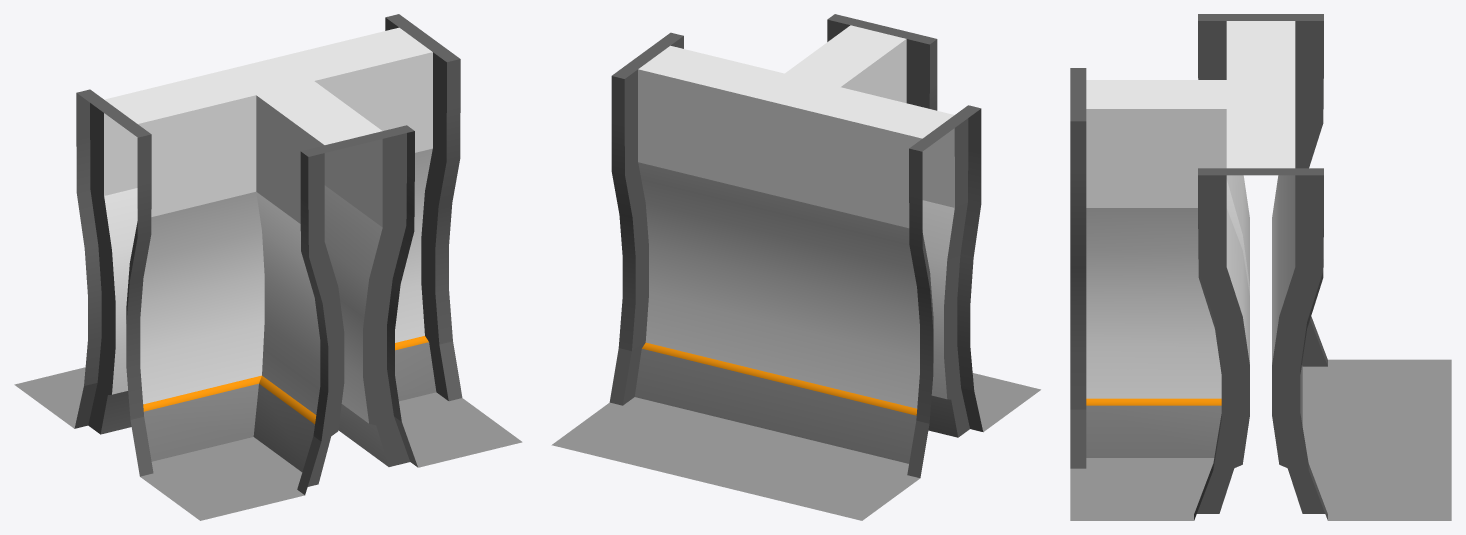
File: SM_InteriorWall_T_01.fbx
The picture shows the model from 3 angles, left to right: view 1: azimuth 30°, elevation 25°; view 2: azimuth 150°, elevation 25°; view 3: azimuth 270°, elevation 25°; orthographic projection. The views are drawn at different scales.
Parts seen in each view (by area): view 1: SM_InteriorWall_T_01; view 2: SM_InteriorWall_T_01; view 3: SM_InteriorWall_T_01.
Part boxes in pixels (x1,y1,x2,y2): SM_InteriorWall_T_01: (14,14,522,520); SM_InteriorWall_T_01: (551,14,1040,520); SM_InteriorWall_T_01: (1070,14,1451,520).
Bounding box in the file's own units: 200 × 200 × 200.
Materials: 1 (1 with a texture image).
